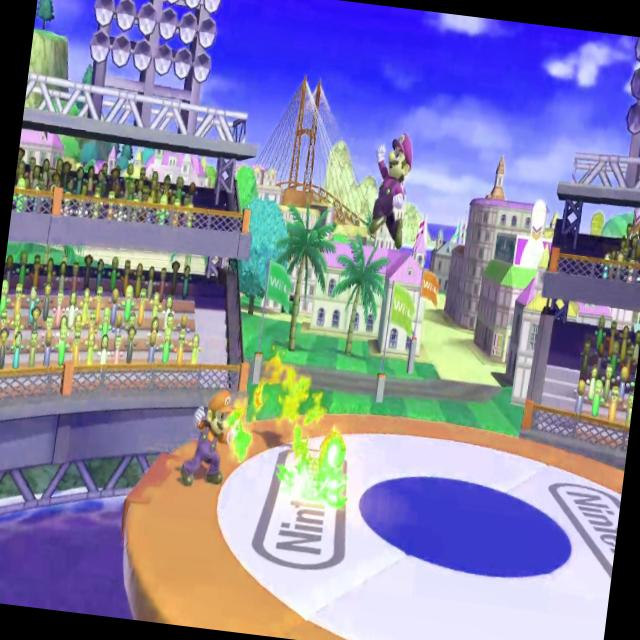Mario-NB: (176, 374, 246, 496)
Mario-jump: (360, 123, 418, 259)
